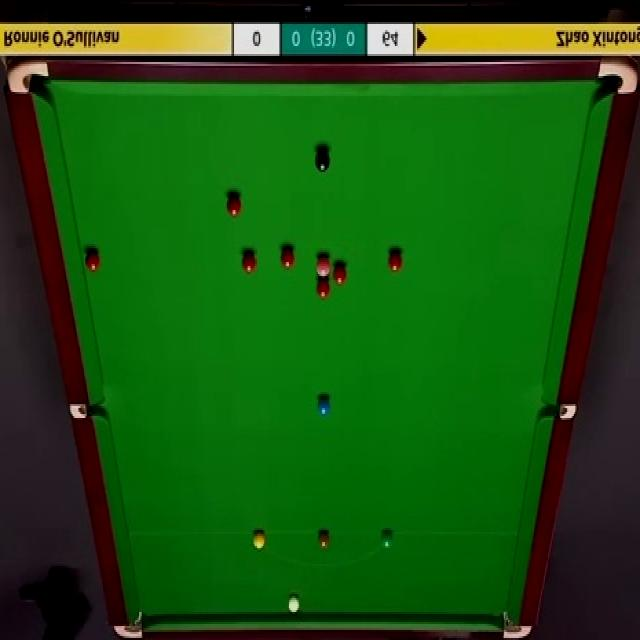black-ball: (315, 149, 330, 174)
blue-ball: (316, 398, 331, 415)
brown-ball: (318, 532, 329, 549)
green-ball: (380, 530, 395, 552)
pink-ball: (316, 256, 331, 276)
red-ball: (240, 249, 256, 277), (226, 194, 243, 219), (281, 244, 296, 268), (84, 252, 100, 274), (388, 248, 401, 274), (333, 264, 348, 286), (316, 279, 331, 299)
white-ball: (286, 595, 300, 612)
yellow-ball: (253, 530, 265, 550)
